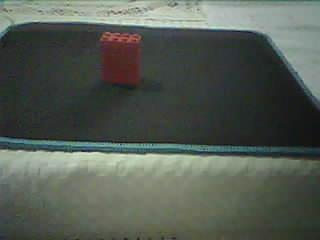lego: (97, 31, 142, 85)
